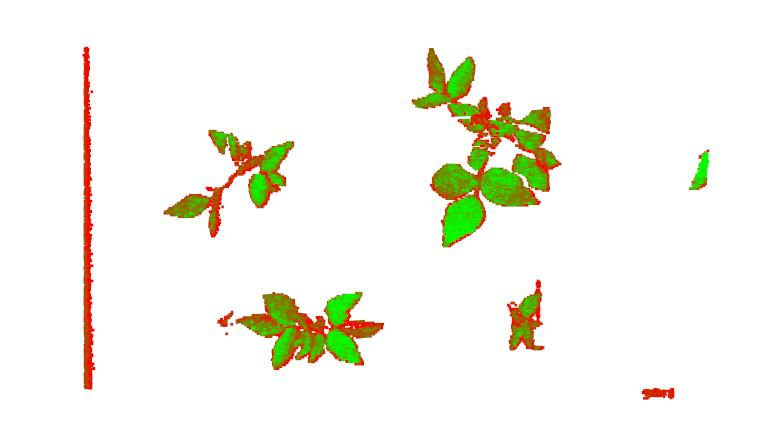mungbean: (417, 40, 557, 246), (161, 121, 311, 236), (235, 285, 381, 373), (500, 277, 554, 359)
